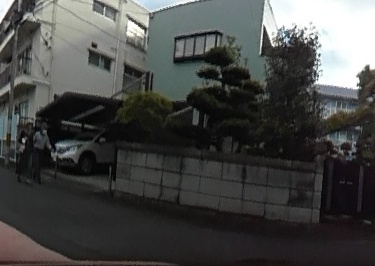person: (11, 123, 34, 181), (31, 121, 49, 176)
